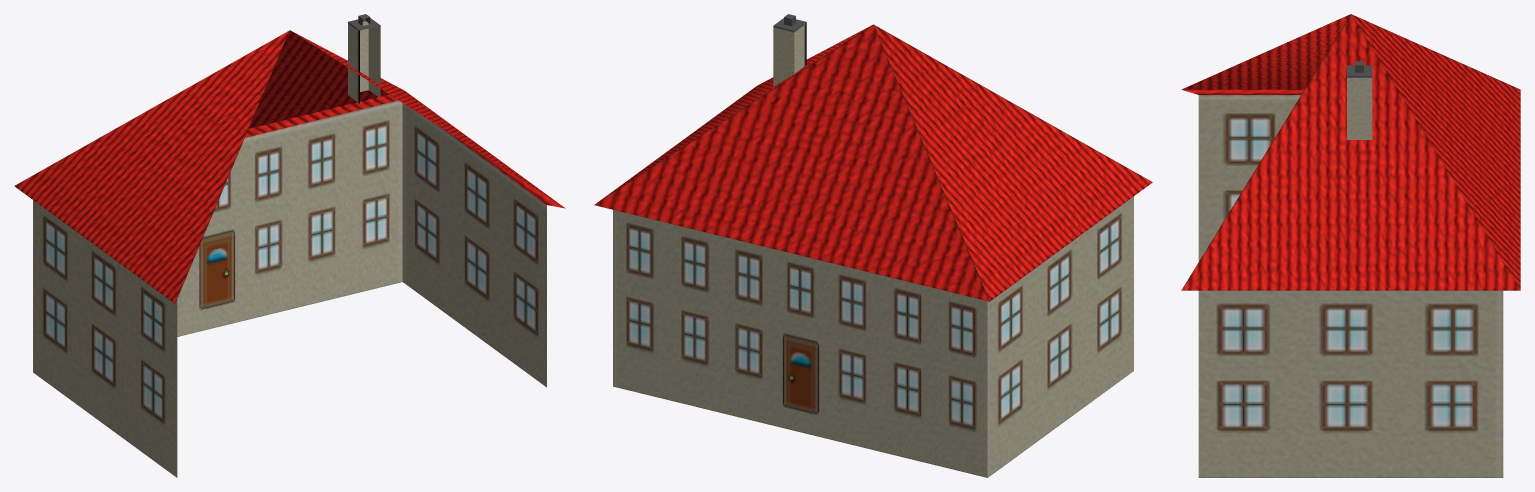
The model's file is House_02.FBX.
The picture shows the model from 3 angles, left to right: view 1: azimuth 30°, elevation 25°; view 2: azimuth 150°, elevation 25°; view 3: azimuth 270°, elevation 25°; orthographic projection. The views are drawn at different scales.
Visible parts, largest first — view 1: House_02, Chimneys_02; view 2: House_02, Chimneys_02; view 3: House_02, Chimneys_02.
Part boxes in pixels (<box>): House_02: <box>14,30,565,477</box>; Chimneys_02: <box>348,14,380,103</box>; House_02: <box>594,24,1152,477</box>; Chimneys_02: <box>773,14,806,86</box>; House_02: <box>1181,14,1520,477</box>; Chimneys_02: <box>1347,61,1372,139</box>.
Size of the model in its own units: 125 by 107 by 89.23.
